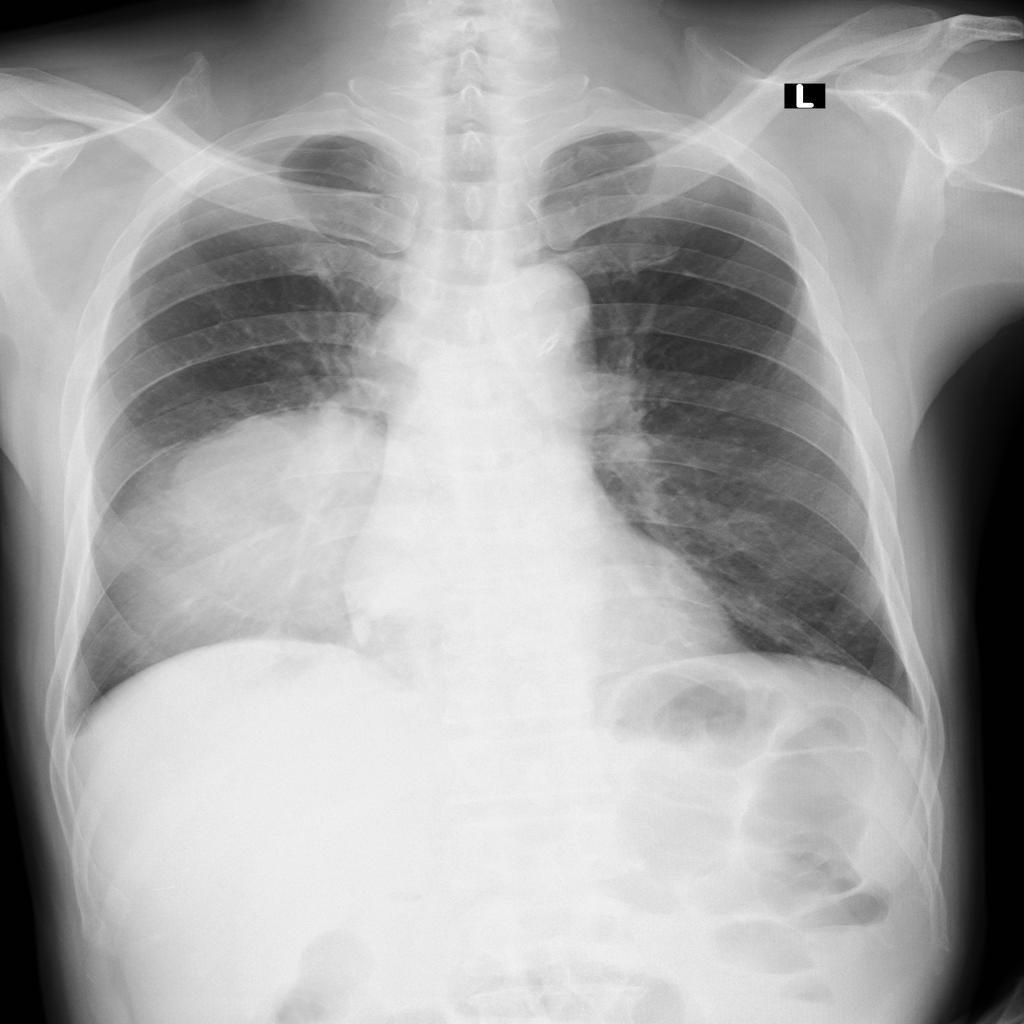Nodule: (121, 400, 406, 678)
